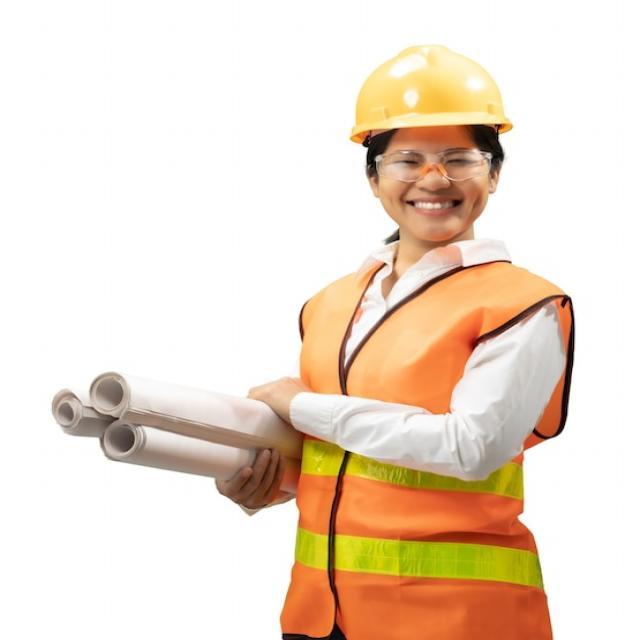Reflective-Jacket: (270, 244, 572, 640)
Safety-Helmet: (347, 40, 513, 146)
